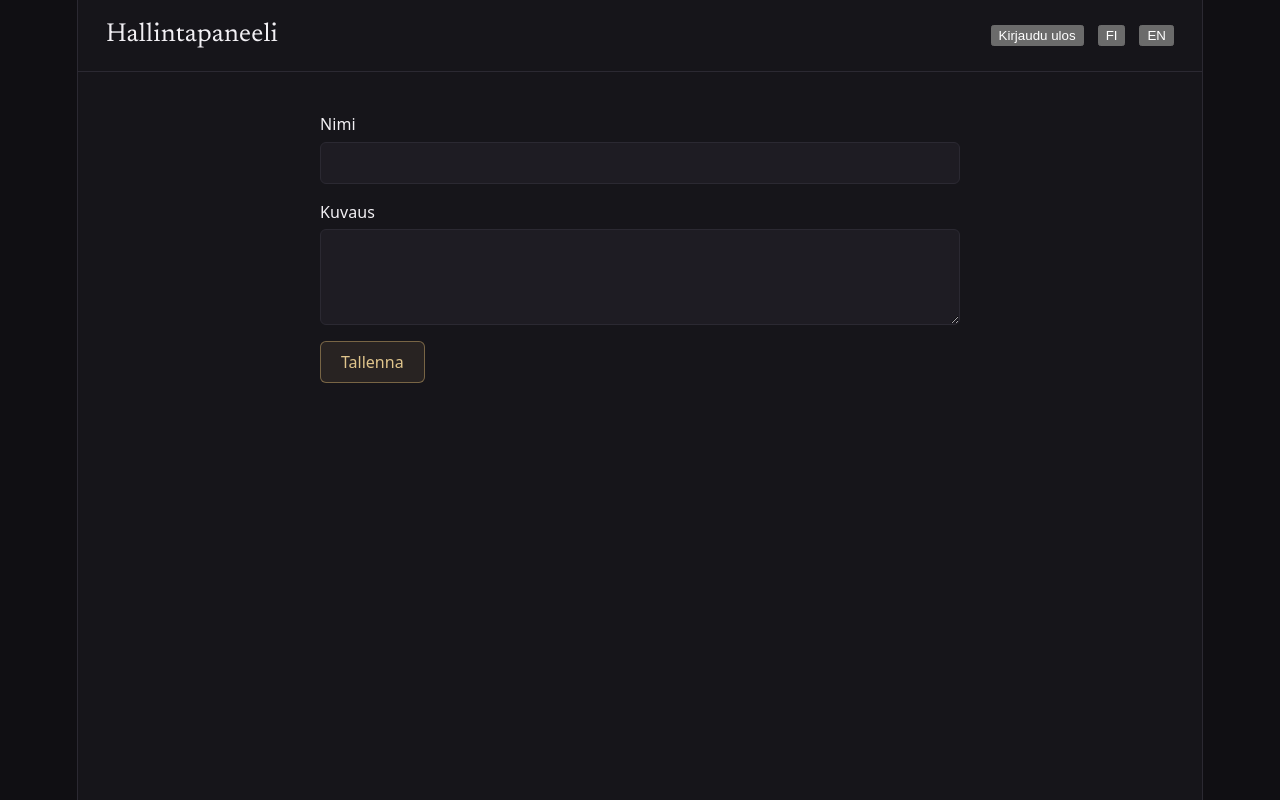
Test case: CollectionForm - create › blocks submit and shows the name-required alert when name is blank (falsifiability)
Click the button "Tallenna" at (372, 362), box [320, 341, 425, 383]
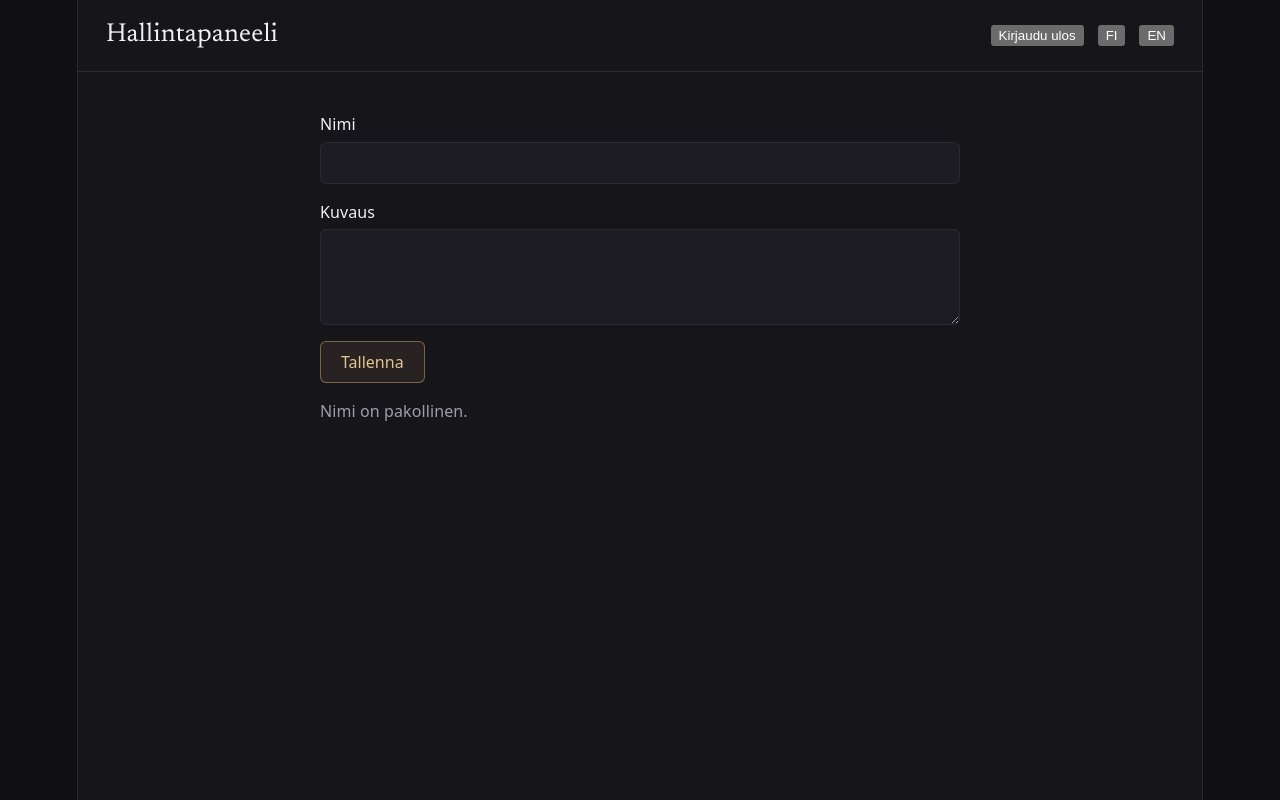
Check: the message "Nimi on pakollinen." is shown, box [320, 400, 468, 422]
